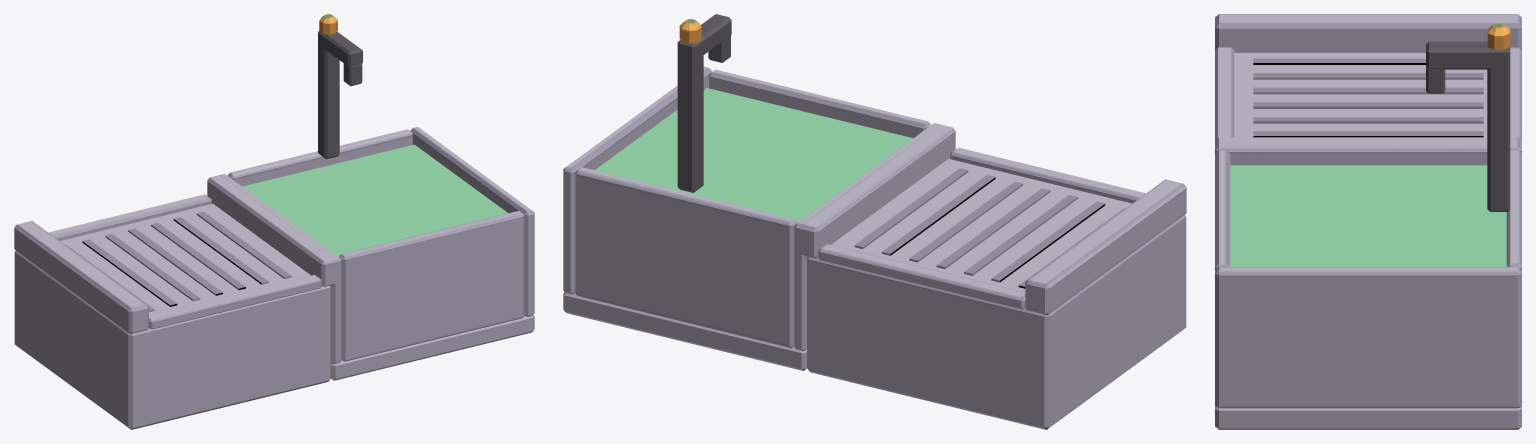
Rendered from Sink.fbx.
The picture shows the model from 3 angles, left to right: view 1: azimuth 30°, elevation 25°; view 2: azimuth 150°, elevation 25°; view 3: azimuth 270°, elevation 25°; orthographic projection. The views are drawn at different scales.
Visible parts, largest first — view 1: Sink; view 2: Sink; view 3: Sink.
Part boxes in pixels (bbox=[...]): Sink: bbox=[14, 14, 534, 429]; Sink: bbox=[563, 14, 1186, 429]; Sink: bbox=[1215, 14, 1521, 429].
Size of the model in its own units: 800 by 493 by 400.
1 material, 1 textured.
